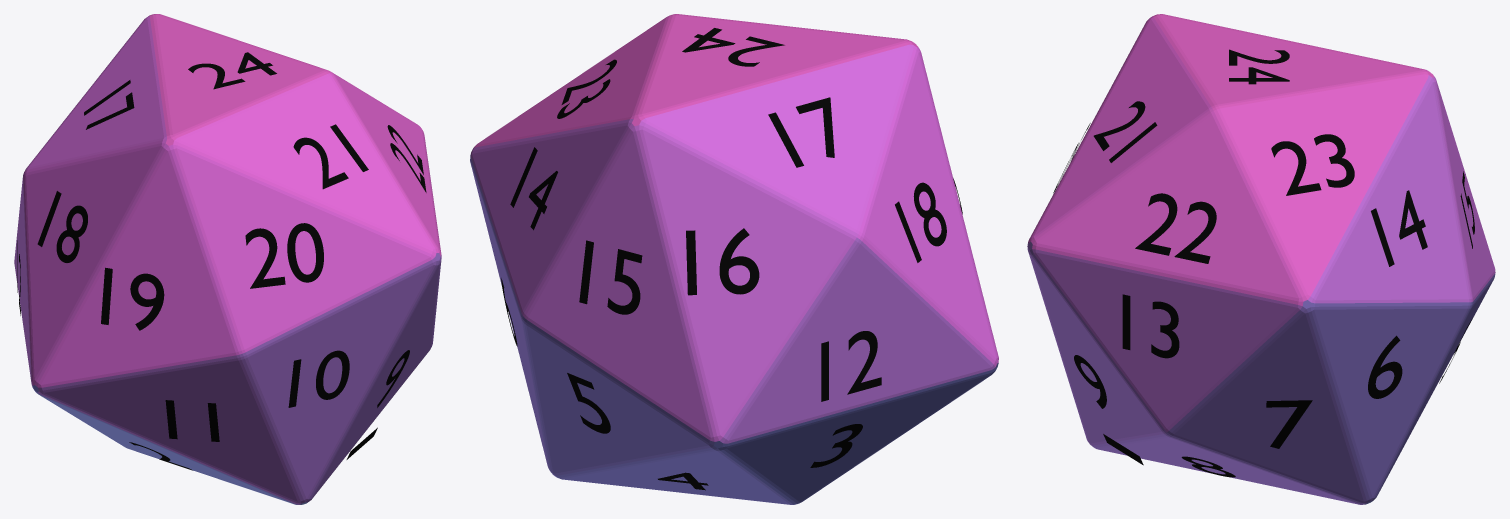
3 renders of one model, left to right at view 1: azimuth 30°, elevation 25°; view 2: azimuth 150°, elevation 25°; view 3: azimuth 270°, elevation 25°, orthographic. The views are drawn at different scales.
Visible parts, largest first — view 1: d24, d24_num; view 2: d24, d24_num; view 3: d24, d24_num.
Boxes of the visible parts, x1,y1,x2,y2 form: d24: [14, 14, 441, 504]; d24_num: [17, 52, 426, 470]; d24: [470, 14, 998, 504]; d24_num: [501, 28, 962, 490]; d24: [1027, 14, 1495, 504]; d24_num: [1053, 49, 1474, 477].
Size of the model in its own units: 2.85 by 2.39 by 2.6.
